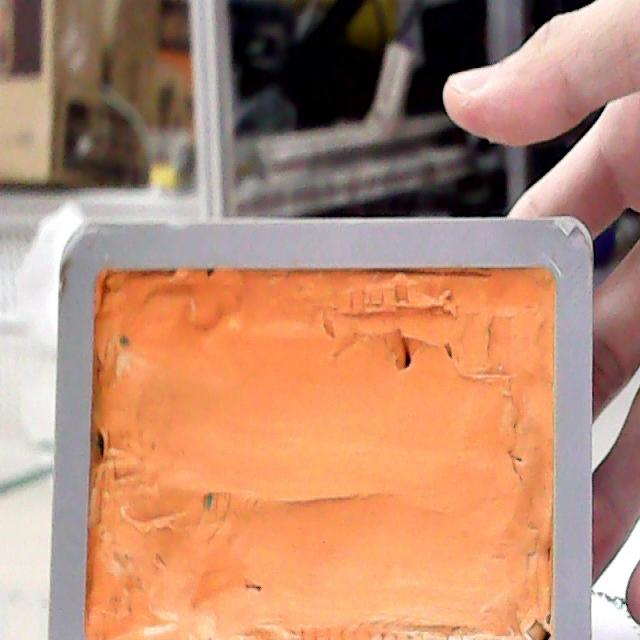block: (48, 214, 594, 640)
